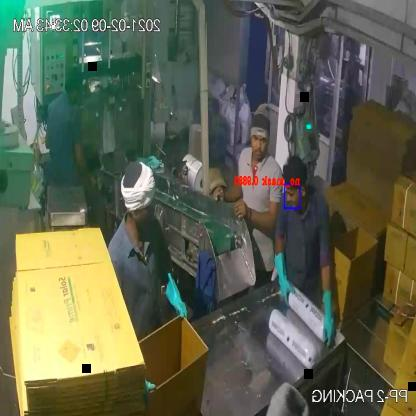glove: (158, 274, 193, 334), (318, 283, 342, 351), (273, 249, 300, 309)
no_glove: (72, 132, 106, 197), (232, 191, 280, 237), (211, 174, 249, 210)
